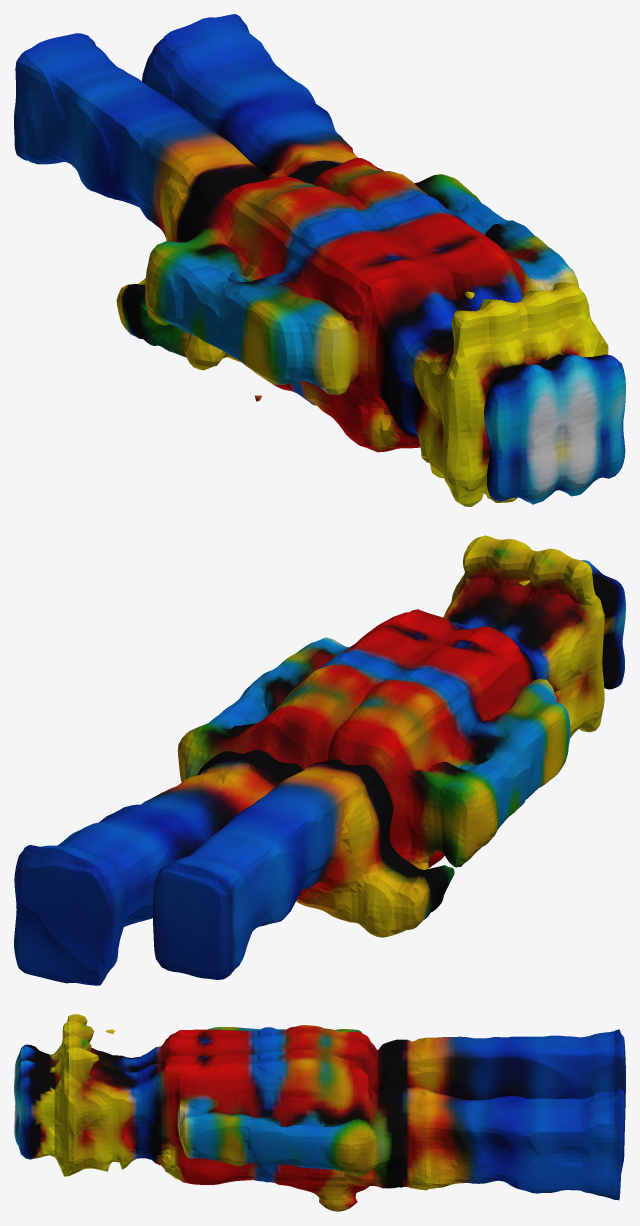
Rendered from a_fireman_lego.glb.
3 views of the same model, one above another, from view 1: azimuth 30°, elevation 25°; view 2: azimuth 150°, elevation 25°; view 3: azimuth 270°, elevation 25° (orthographic). The views are drawn at different scales.
Parts seen in each view (by area): view 1: 0.ply; view 2: 0.ply; view 3: 0.ply.
Part boxes in pixels (left/top/right/bottom): 0.ply: left=14, top=14, right=625, bottom=506; 0.ply: left=14, top=535, right=625, bottom=985; 0.ply: left=14, top=1014, right=625, bottom=1211.
Bounding box in the file's own units: 0.8167 × 0.5774 × 1.97.
